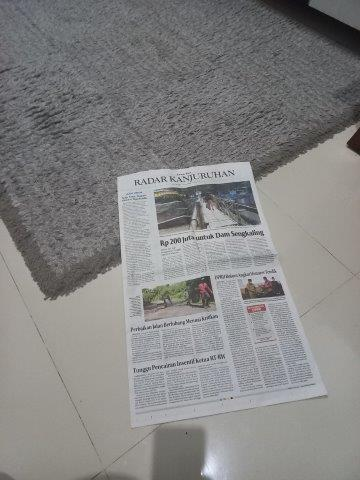kertas: (118, 162, 329, 428)
